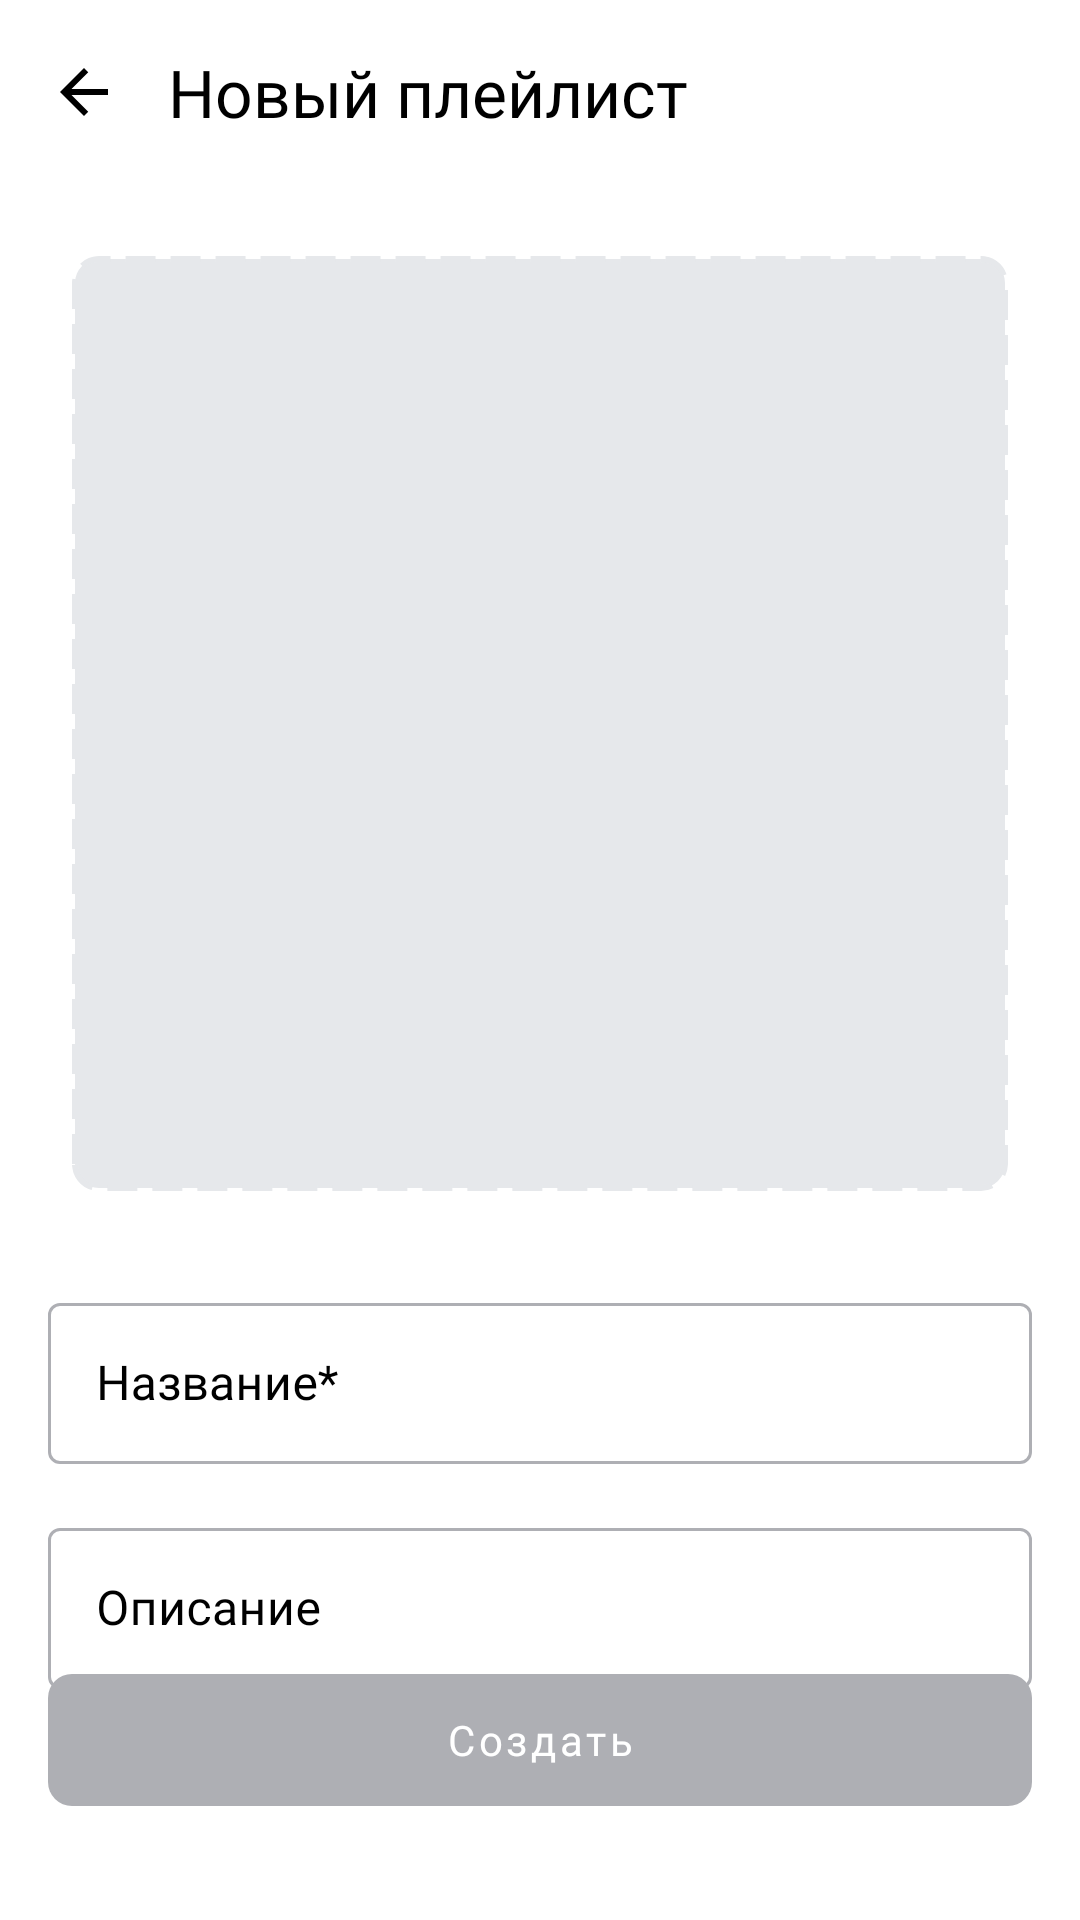

Icon bounding boxes for this 1080*1920 phone screenshot, format (x1, y1, x2, y2):
back: (60, 68, 108, 116)
